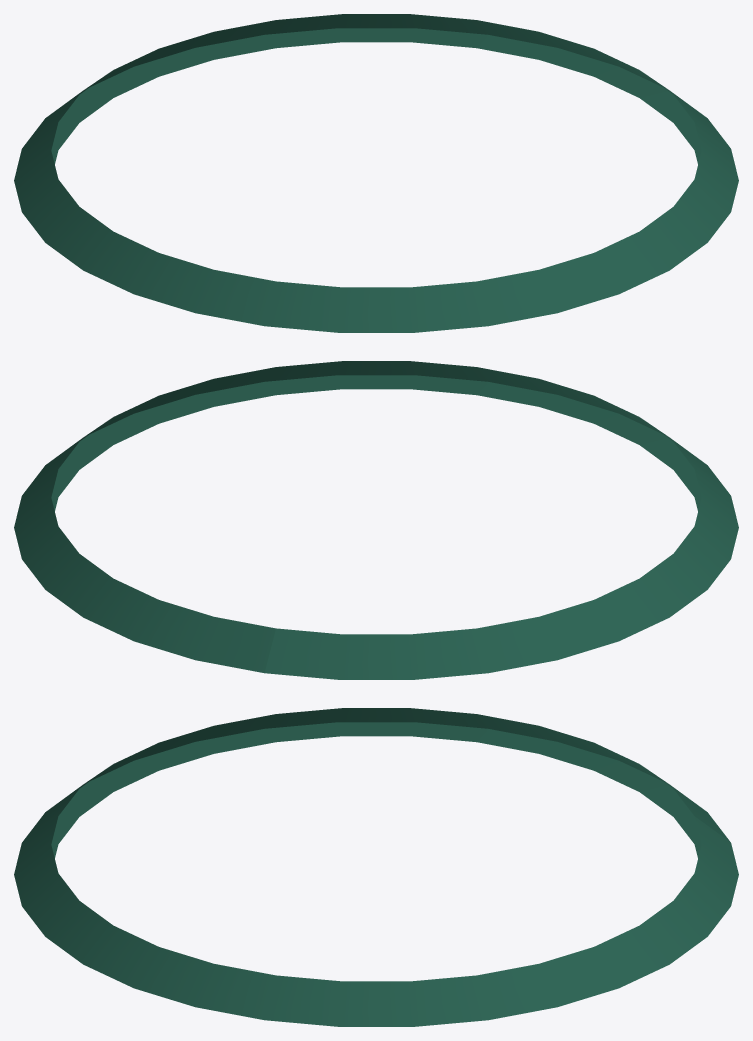
The model's file is outer round stage.fbx.
3 renders of one model, top to bottom at view 1: azimuth 30°, elevation 25°; view 2: azimuth 150°, elevation 25°; view 3: azimuth 270°, elevation 25°, orthographic.
Visible parts, largest first — view 1: Outer_round_stage; view 2: Outer_round_stage; view 3: Outer_round_stage.
Boxes of the visible parts, x1,y1,x2,y2 form: Outer_round_stage: (14,14,738,332); Outer_round_stage: (14,361,738,679); Outer_round_stage: (14,708,738,1026).
Size of the model in its own units: 709 by 32.35 by 713.
